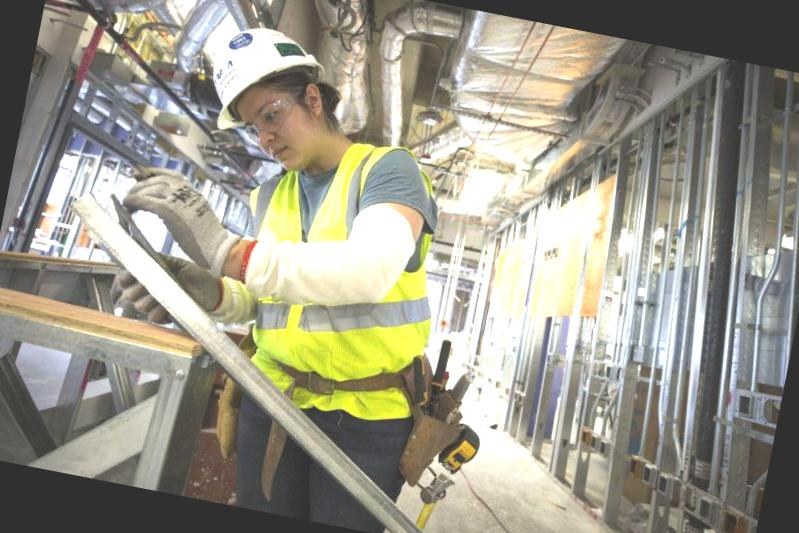helmet: (187, 16, 332, 154)
person: (124, 13, 489, 533)
